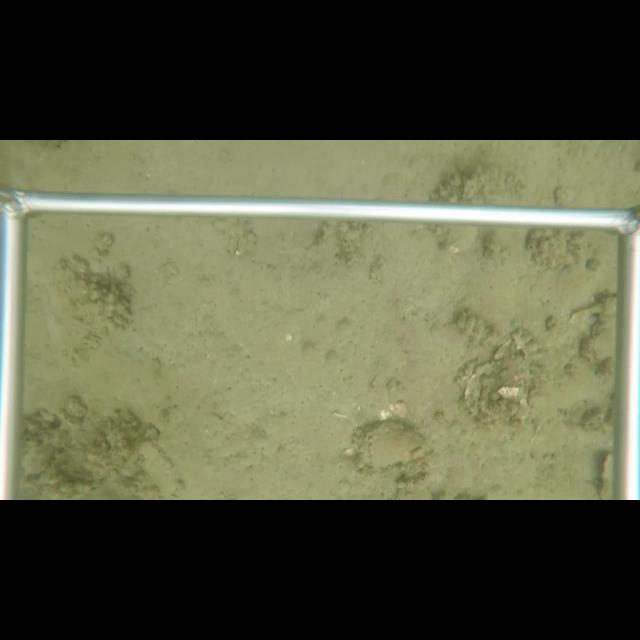Oyster-Closed: (351, 419, 435, 476), (578, 292, 617, 371), (136, 439, 185, 498)
